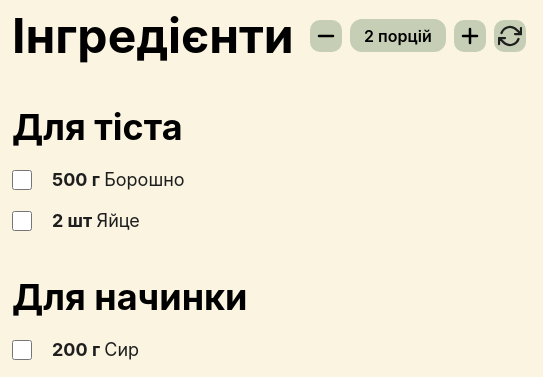
Test: <Ingredients /> › скидає кількість порцій до стандартного значення
Expected: the text "2 порцій" is shown, [350,19,446,52]
Click the 2nd button. click: (470, 36)
box: [454,20,486,52]
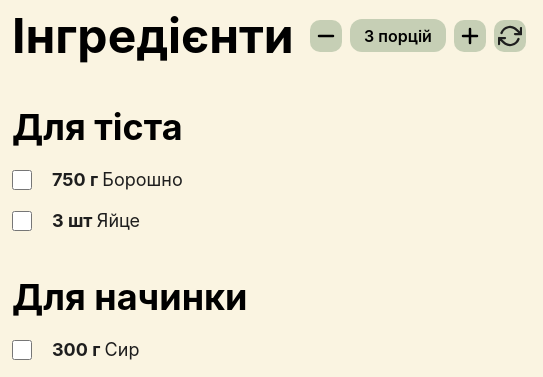
Result: the text "3 порцій" is shown at [350,19,446,52]
Click the button named "Скинути до стандартного". click: (510, 36)
box: [494,20,526,52]
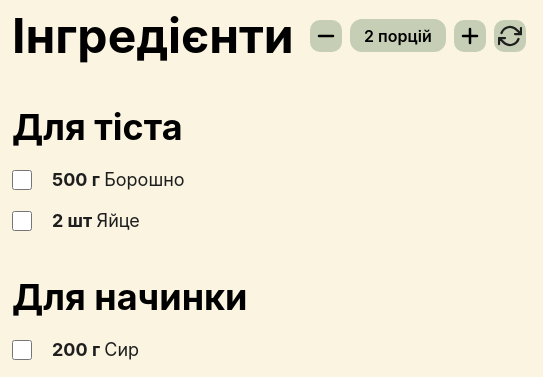
Result: the text "2 порцій" is shown at [350,19,446,52]
